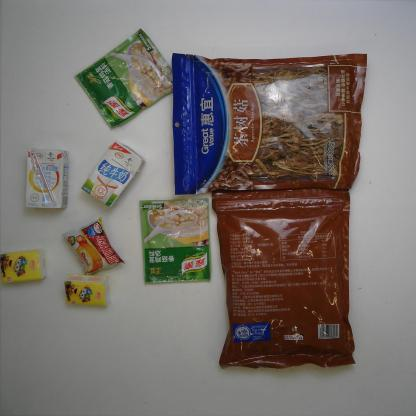Dessert: (59, 213, 127, 277)
Dried Food: (171, 51, 368, 197), (210, 187, 360, 370)
Milk: (80, 139, 146, 210), (22, 147, 72, 211)
Seasoner: (74, 26, 172, 130), (138, 196, 212, 286)
Tissue: (0, 248, 49, 286), (63, 272, 112, 308)
